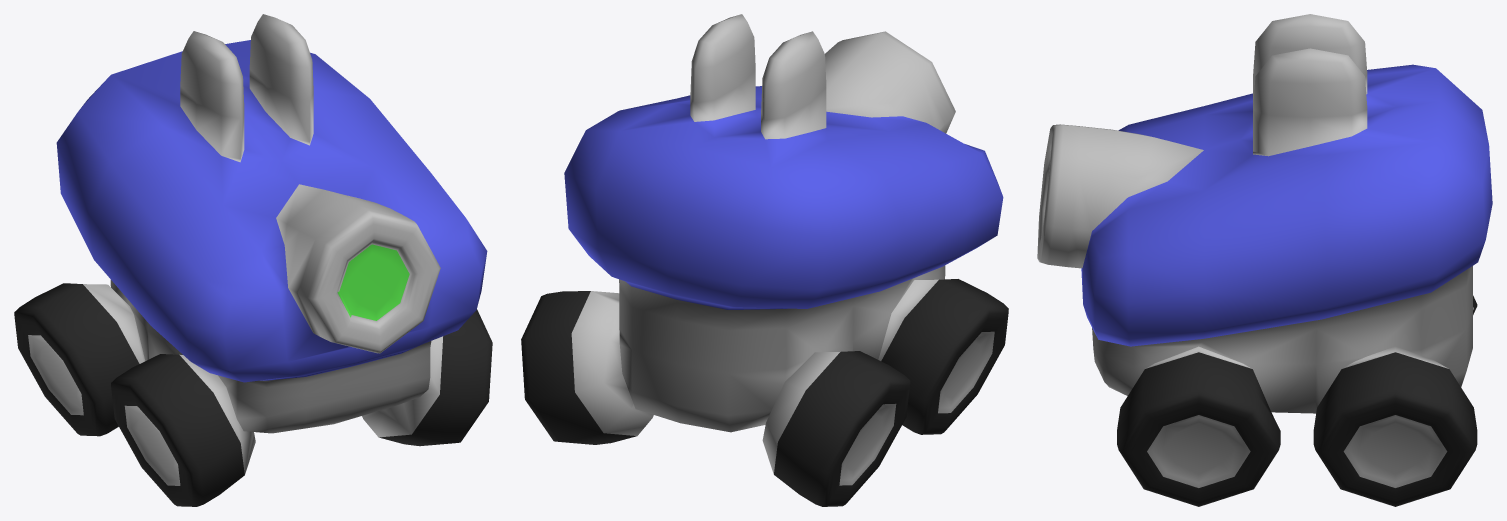
The model's file is Bobby.fbx.
3 renders of one model, left to right at view 1: azimuth 30°, elevation 25°; view 2: azimuth 150°, elevation 25°; view 3: azimuth 270°, elevation 25°, orthographic.
Parts seen in each view (by area): view 1: Bobby; view 2: Bobby; view 3: Bobby.
Boxes of the visible parts, bbox=[...] form: Bobby: bbox=[14, 14, 492, 506]; Bobby: bbox=[521, 14, 1008, 506]; Bobby: bbox=[1037, 14, 1492, 506].
Bounding box in the file's own units: 210 × 237 × 236.
